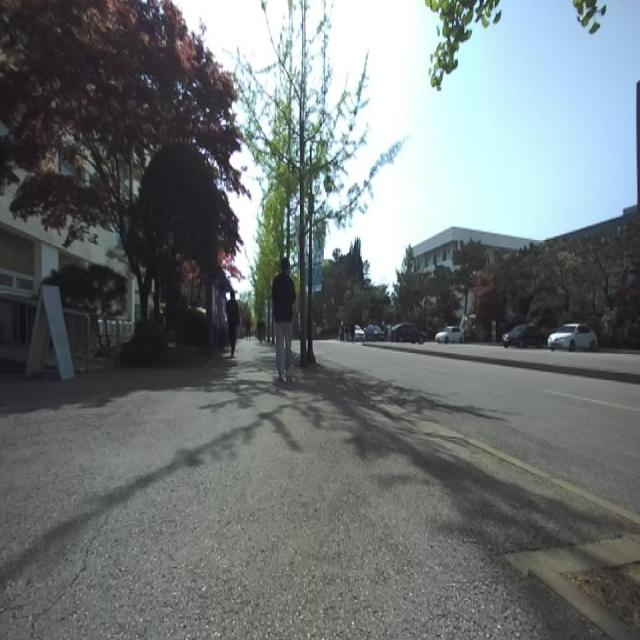sidewalk: (0, 340, 638, 639), (507, 534, 640, 639)
